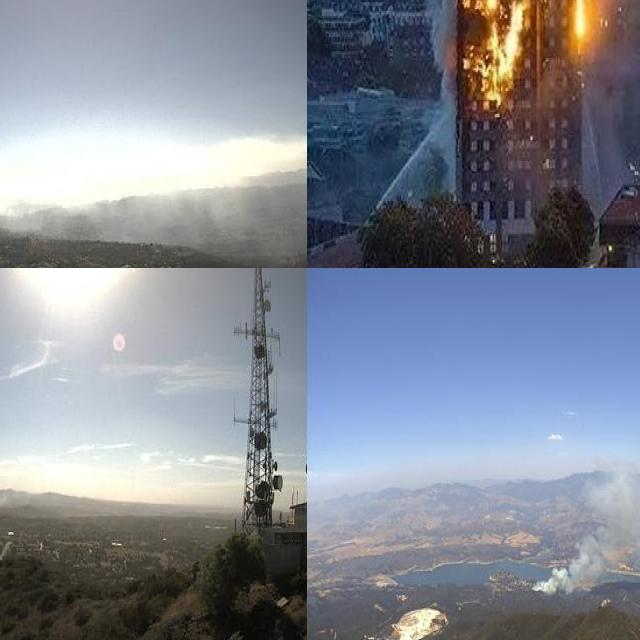fire: (456, 0, 587, 106)
smoke: (527, 459, 640, 603), (0, 161, 147, 237), (426, 0, 452, 113), (590, 0, 630, 31)
